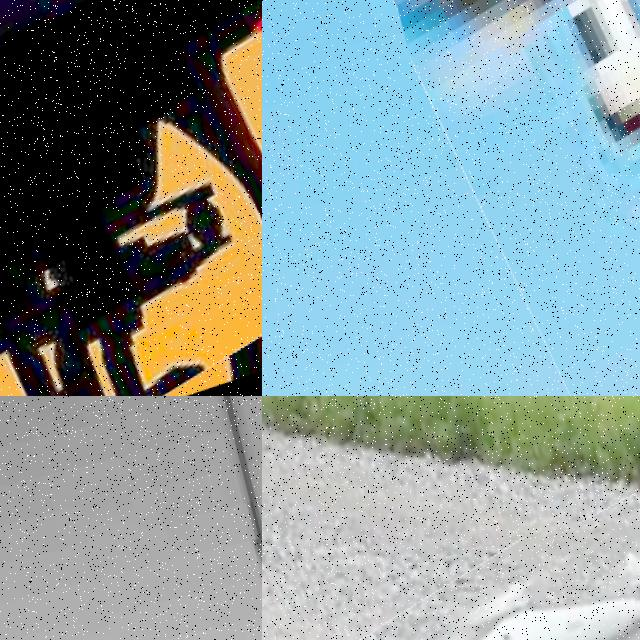drone: (351, 0, 640, 396), (0, 0, 262, 396), (361, 494, 640, 640)
